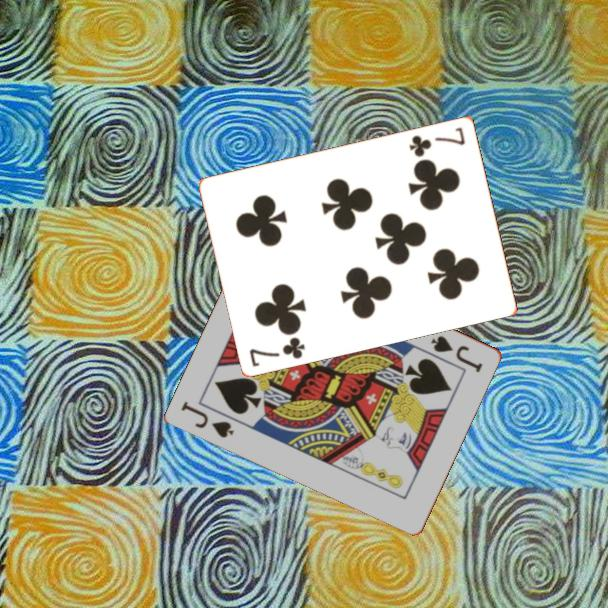c07: (406, 123, 468, 160), (246, 333, 308, 369)
s11: (178, 398, 237, 441), (428, 332, 486, 375)
